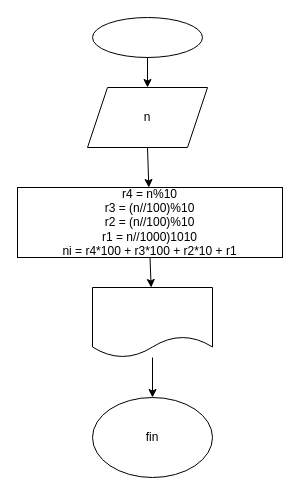
This 300x495 diagram has some shape labels left out. The shapes that lost their labels are listed below. From the top down, each one's centre as x and y in pixels, then its label:
(147,37): inicio
(152,322): ni
